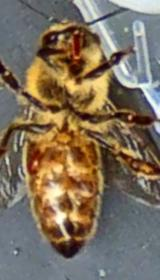varroa_mite: (17, 144, 48, 180)
